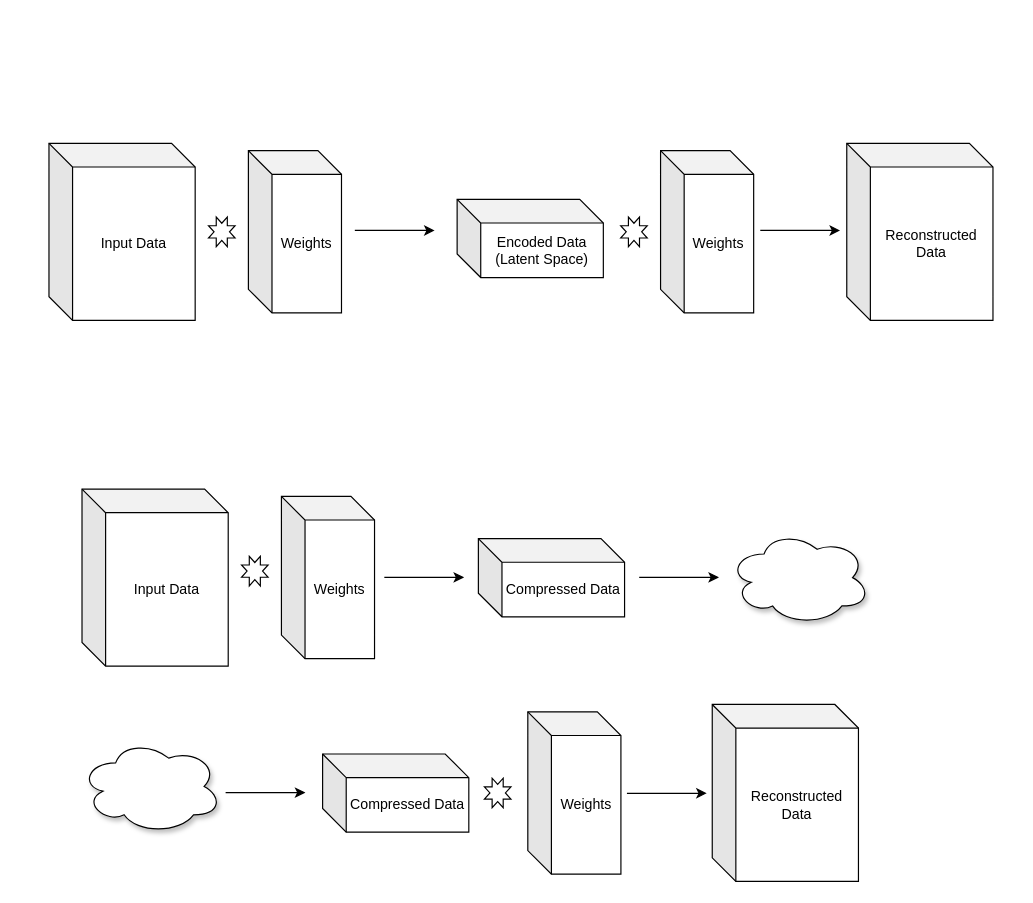
The diagram is 1033 pixels wide and 903 high, and some of its shapes have lost their labels. Here are the shapes that lost their labels. From the top down, the centre of each, then its label:
(x=800, y=579): Transmit Data
(x=151, y=787): Data Reciever
